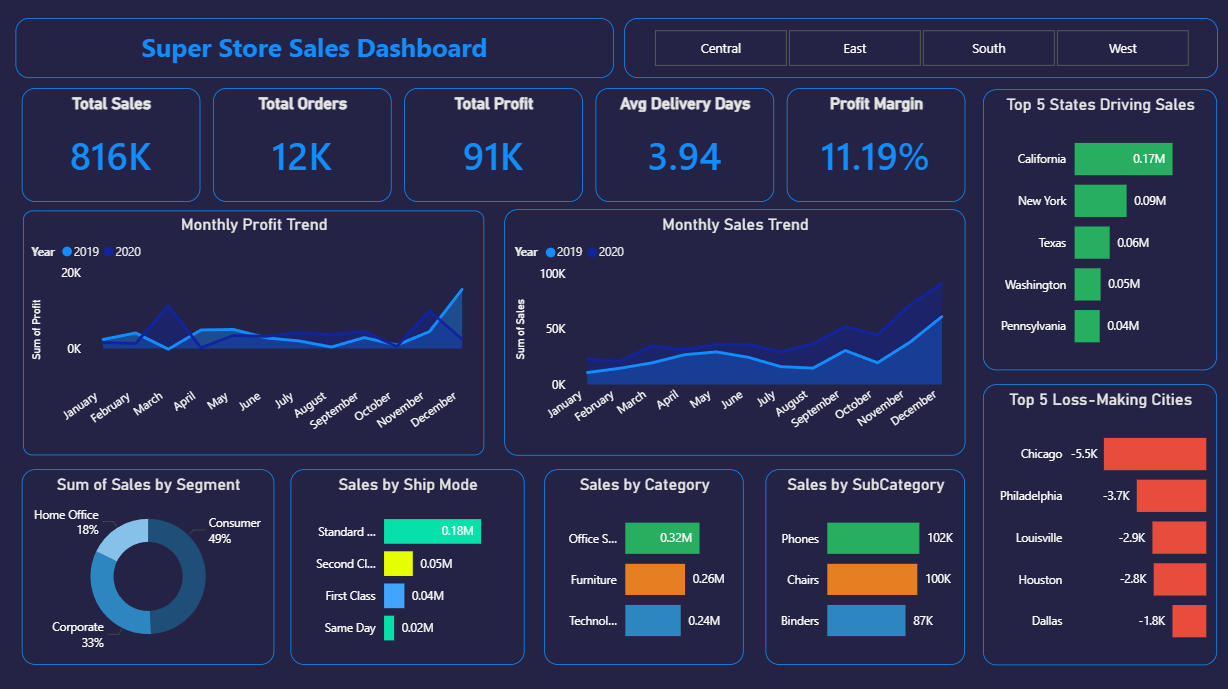

This screenshot's page, from the dashboard's own definition file:
{"tool":"powerbi","page":{"name":"Dashboard","canvas":[1280,720],"ordinal":0},"visuals":[{"type":"clusteredBarChart","title":"Sales by Category","fields":{"Category":["SuperStore_Sales_Dataset.Category"],"Y":["Sum(SuperStore_Sales_Dataset.Sales)"]},"box":[568.1,489.9,207.2,203.1],"z":0},{"type":"clusteredBarChart","title":"Sales by SubCategory","fields":{"Y":["Sum(SuperStore_Sales_Dataset.Sales)"],"Category":["SuperStore_Sales_Dataset.Sub-Category"]},"box":[797.3,489.9,207.2,203.1],"z":1000},{"type":"clusteredBarChart","title":"Sales by Ship Mode","fields":{"Y":["Sum(SuperStore_Sales_Dataset.Sales)"],"Category":["SuperStore_Sales_Dataset.Ship Mode"]},"box":[303.3,489.9,242.9,203.1],"z":2000},{"type":"areaChart","title":"Monthly Sales Trend","fields":{"Y":["Sum(SuperStore_Sales_Dataset.Sales)"],"Category":["SuperStore_Sales_Dataset.Order Date.Variation.Date Hierarchy.Month","SuperStore_Sales_Dataset.Order Date.Variation.Date Hierarchy.Day"],"Series":["SuperStore_Sales_Dataset.Order Date.Variation.Date Hierarchy.Year"]},"box":[526,219.6,479,255.8],"z":3000},{"type":"areaChart","title":"Monthly Profit Trend","fields":{"Category":["SuperStore_Sales_Dataset.Order Date.Variation.Date Hierarchy.Month","SuperStore_Sales_Dataset.Order Date.Variation.Date Hierarchy.Day"],"Series":["SuperStore_Sales_Dataset.Order Date.Variation.Date Hierarchy.Year"],"Y":["Sum(SuperStore_Sales_Dataset.Profit)"]},"box":[25.3,220.8,479,254.6],"z":4000},{"type":"donutChart","fields":{"Category":["SuperStore_Sales_Dataset.Segment"],"Y":["Sum(SuperStore_Sales_Dataset.Sales)"]},"box":[24.7,489.9,262.1,203.1],"z":5000},{"type":"slicer","fields":{"Values":["SuperStore_Sales_Dataset.Region"]},"box":[650.3,20.5,616.5,62.7],"z":6000},{"type":"textbox","box":[18.1,20.5,621.3,62.7],"z":7000},{"type":"cardVisual","title":"Total Sales","fields":{"Data":["Sum(SuperStore_Sales_Dataset.Sales)"]},"box":[24.7,93.3,185.2,118],"z":8000},{"type":"cardVisual","title":"Total Orders","fields":{"Data":["Sum(SuperStore_Sales_Dataset.Quantity)"]},"box":[223.7,93.3,185.2,118],"z":9000},{"type":"cardVisual","title":"Total Profit","fields":{"Data":["Sum(SuperStore_Sales_Dataset.Profit)"]},"box":[422.6,93.3,185.2,118],"z":10000},{"type":"cardVisual","title":"Avg Delivery Days","fields":{"Data":["Avg(SuperStore_Sales_Dataset.AvgDelivery)"]},"box":[620.2,93.3,185.2,118],"z":11000},{"type":"cardVisual","title":"Profit Margin","fields":{"Data":["SuperStore_Sales_Dataset.Profit Margin %"]},"box":[819.2,93.3,185.2,118],"z":12000},{"type":"clusteredBarChart","title":"Top 5 States Driving Sales","fields":{"Category":["SuperStore_Sales_Dataset.State"],"Y":["Sum(SuperStore_Sales_Dataset.Sales)"]},"box":[1023.7,94.7,242.9,292.3],"z":13000},{"type":"clusteredBarChart","title":"Top 5 Loss-Making Cities","fields":{"Category":["SuperStore_Sales_Dataset.City"],"Y":["Sum(SuperStore_Sales_Dataset.Profit)"]},"box":[1023.7,400.7,242.9,292.3],"z":14000}]}

Visuals, with their boxes in screenshot pixels (x1, y1, x2, y2), scaled from the page's 1280x720 canvas onto the 1228x689 screenshot:
"Sales by Category" clusteredBarChart: [545,469,744,663]
"Sales by SubCategory" clusteredBarChart: [765,469,964,663]
"Sales by Ship Mode" clusteredBarChart: [291,469,524,663]
"Monthly Sales Trend" areaChart: [505,210,964,455]
"Monthly Profit Trend" areaChart: [24,211,484,455]
donutChart - SuperStore_Sales_Dataset.Segment x Sum(SuperStore_Sales_Dataset.Sales): [24,469,275,663]
slicer - SuperStore_Sales_Dataset.Region: [624,20,1215,80]
textbox: [17,20,613,80]
"Total Sales" cardVisual: [24,89,201,202]
"Total Orders" cardVisual: [215,89,392,202]
"Total Profit" cardVisual: [405,89,583,202]
"Avg Delivery Days" cardVisual: [595,89,773,202]
"Profit Margin" cardVisual: [786,89,964,202]
"Top 5 States Driving Sales" clusteredBarChart: [982,91,1215,370]
"Top 5 Loss-Making Cities" clusteredBarChart: [982,383,1215,663]
